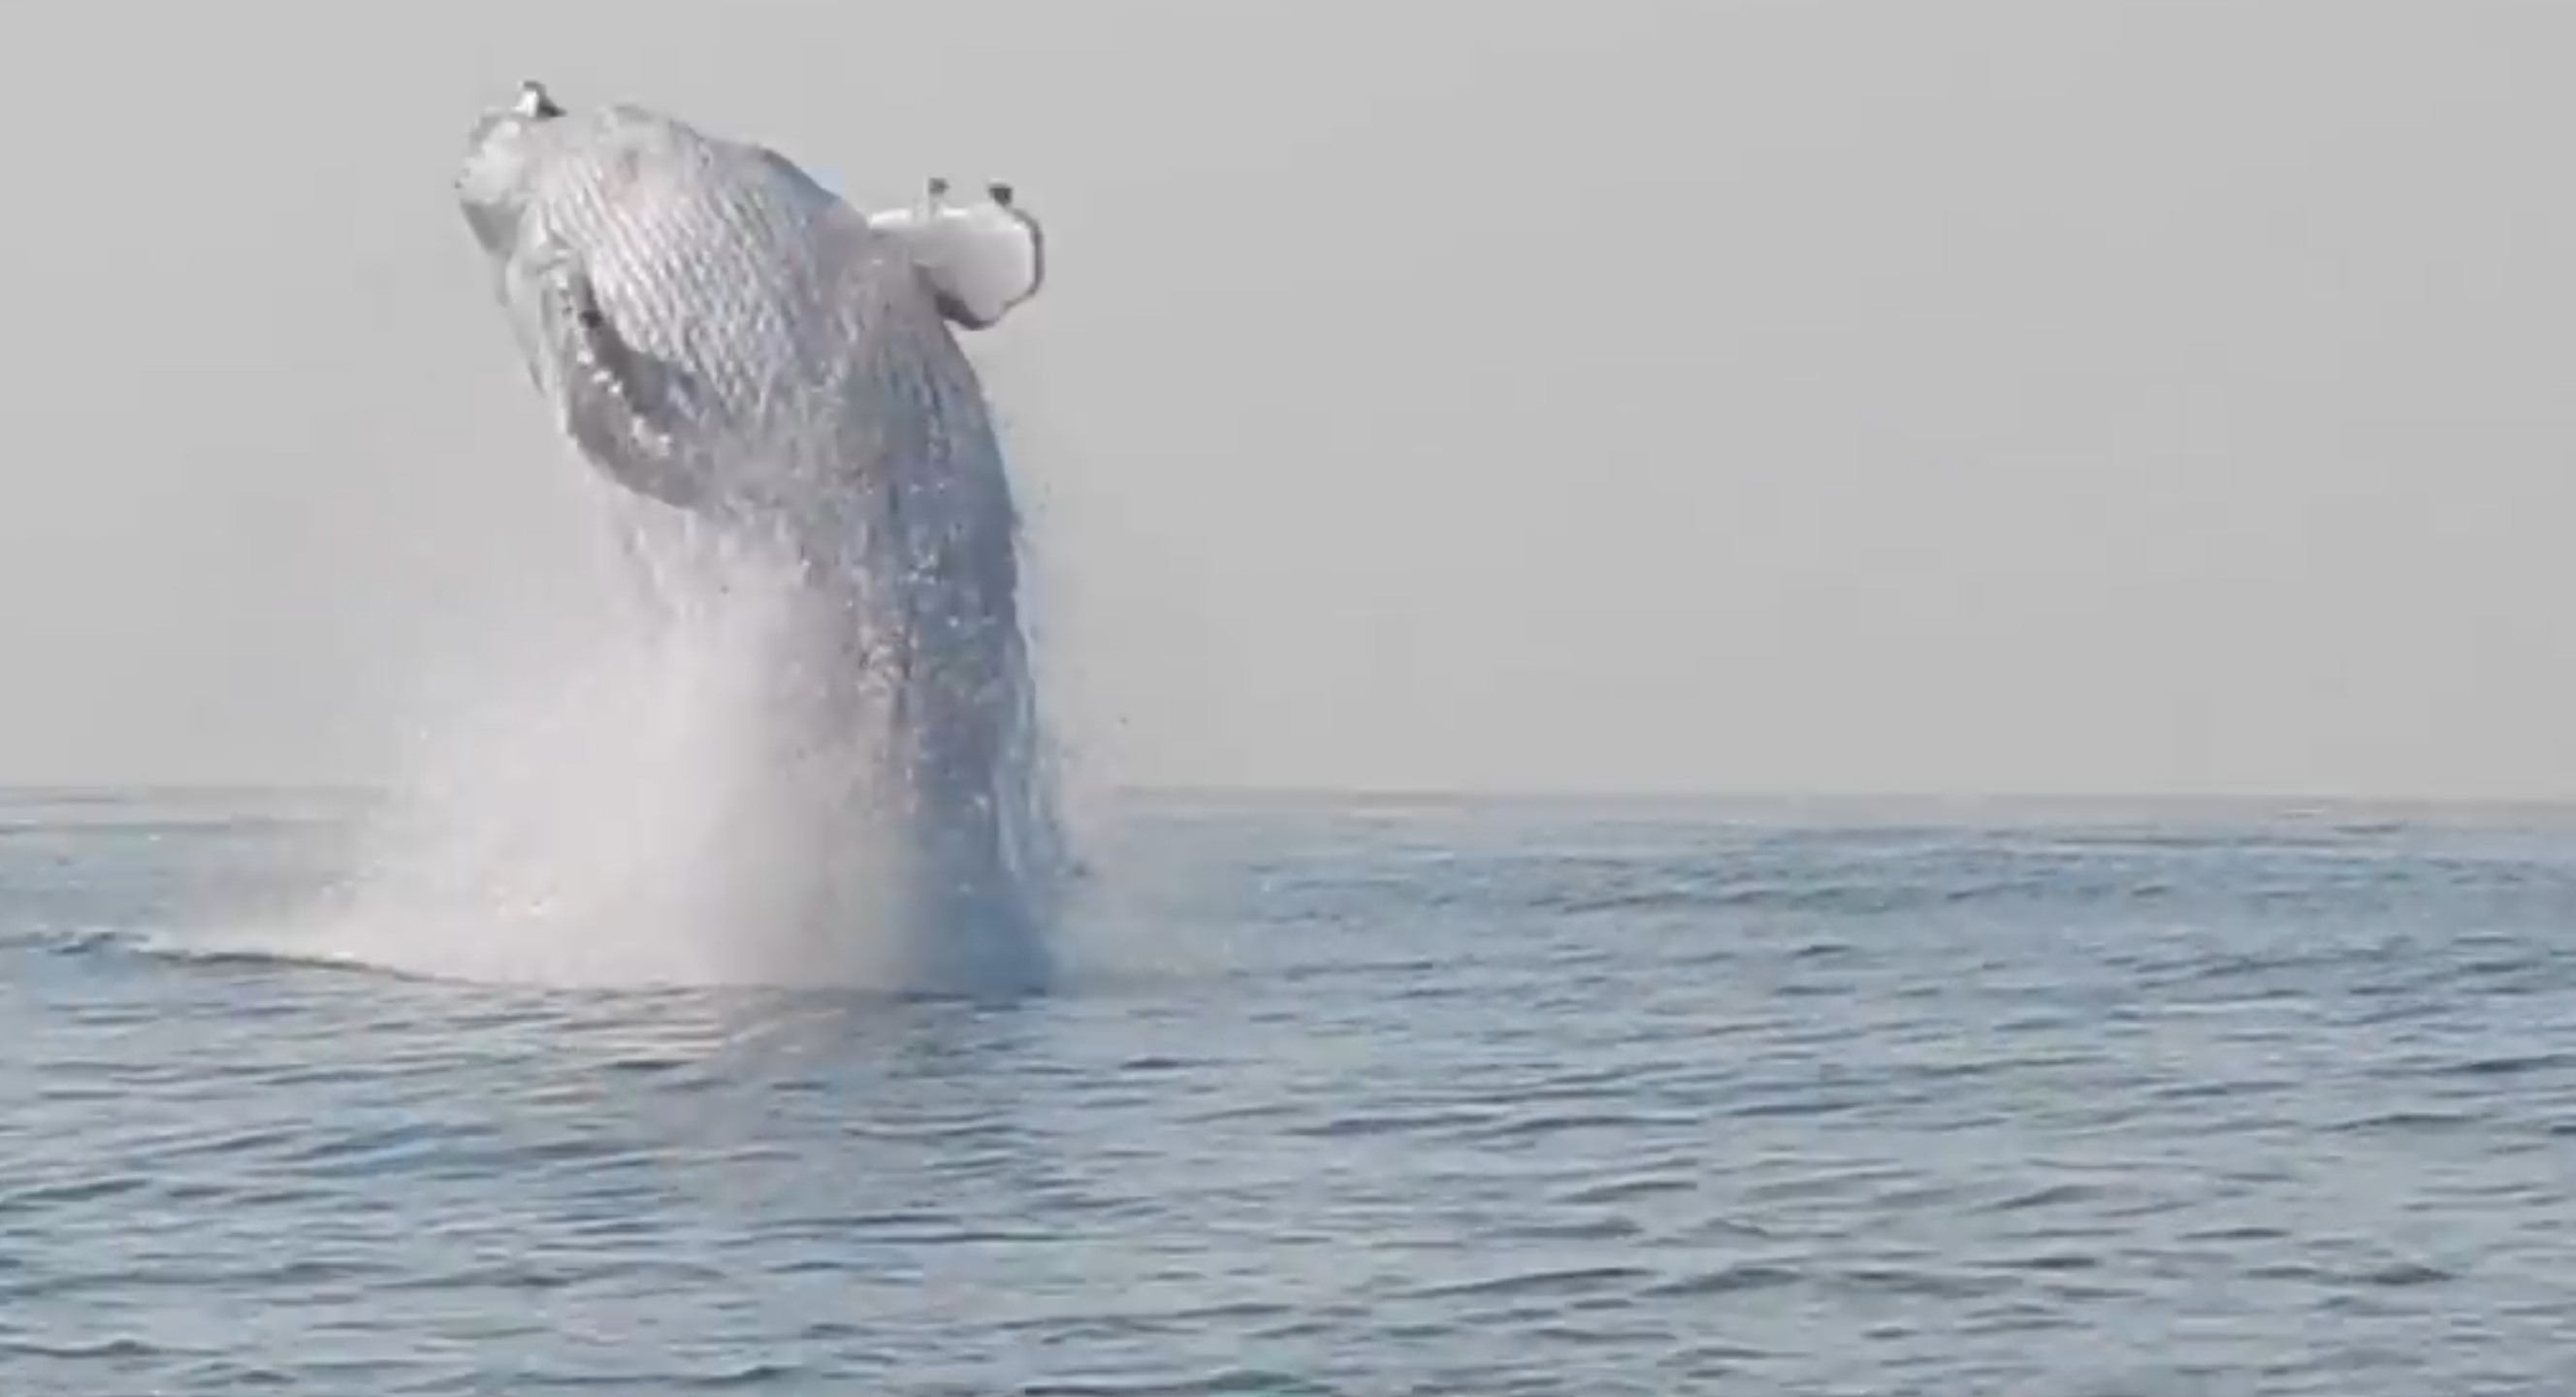humpback: (449, 79, 1027, 977)
